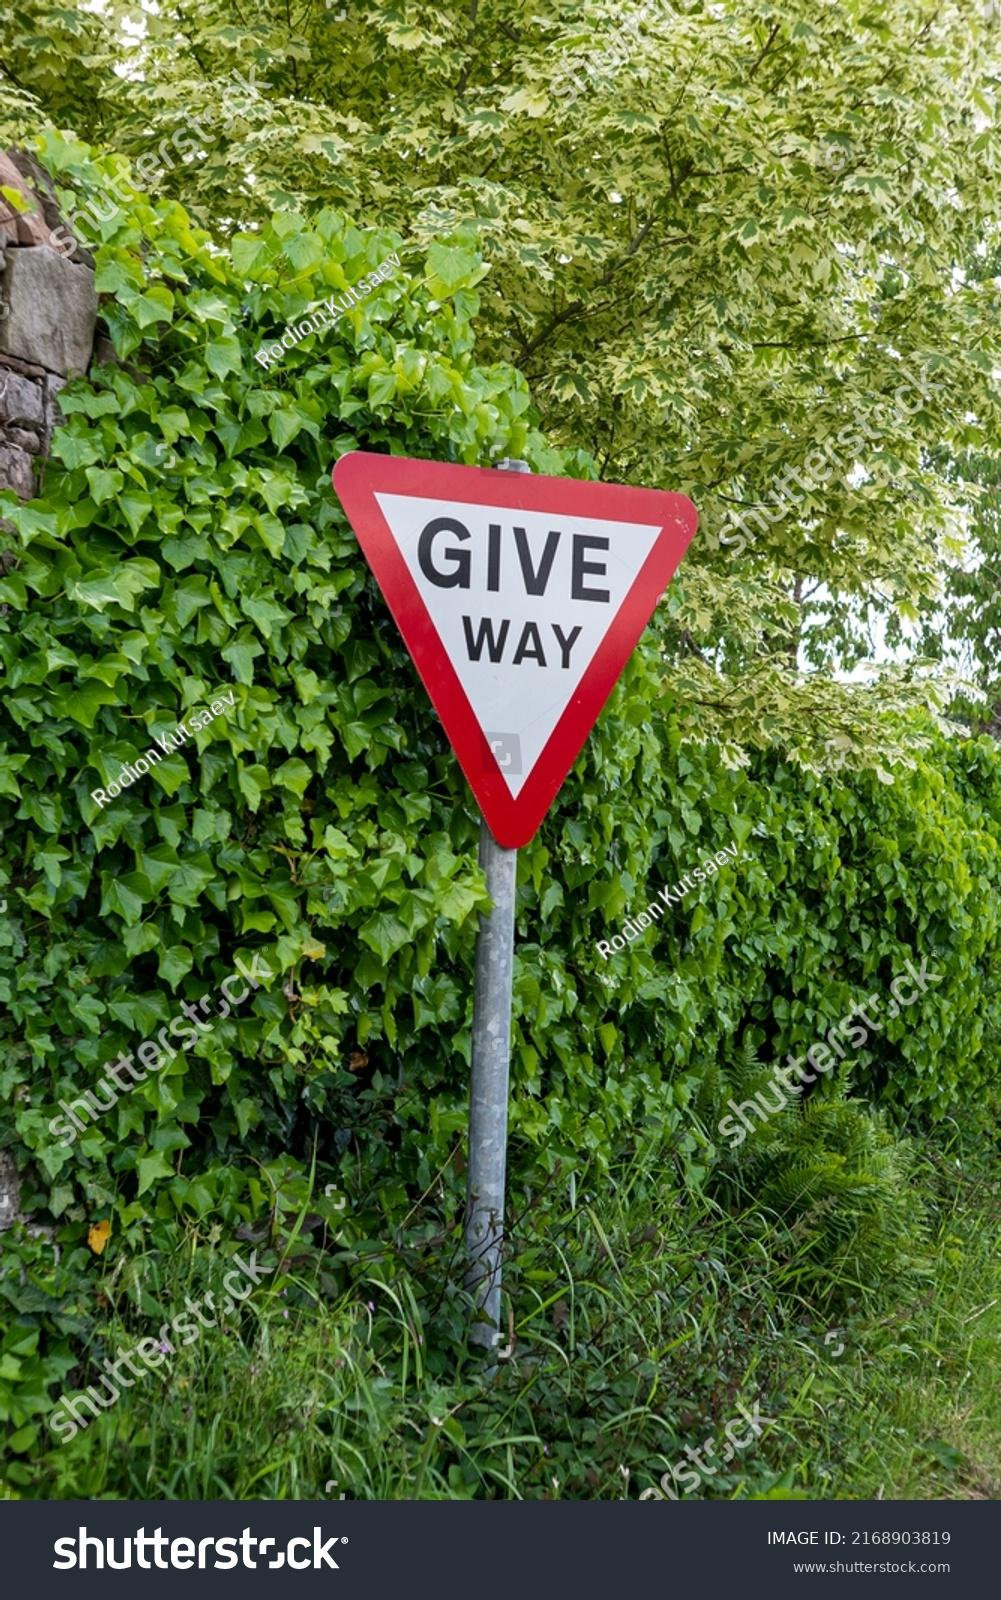Give Way: (307, 421, 716, 831)
